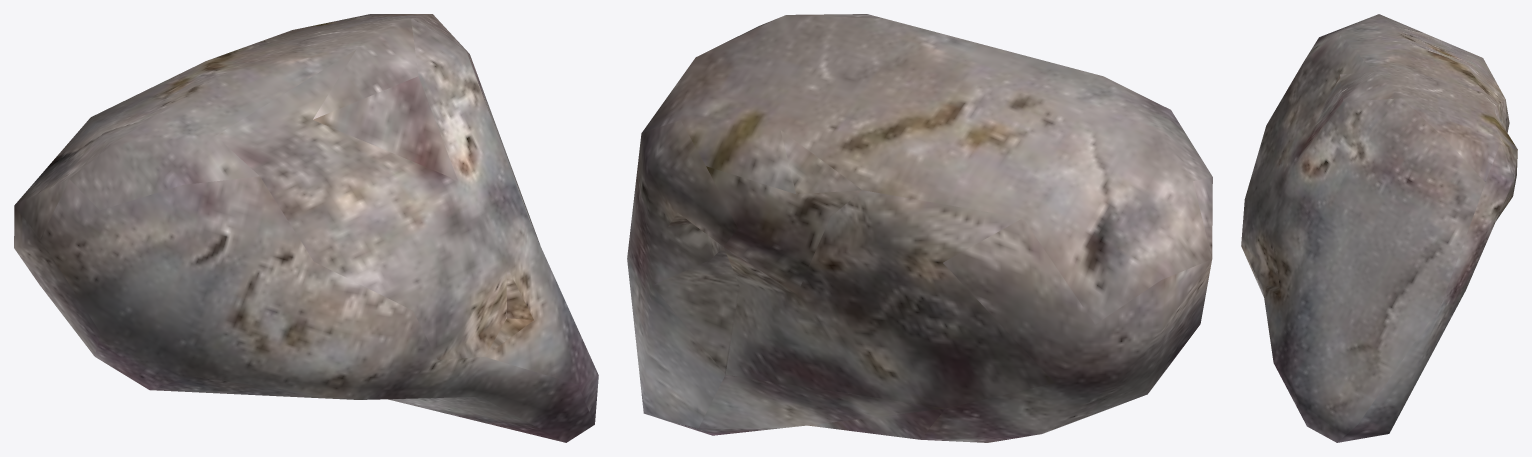
3 renders of one model, left to right at view 1: azimuth 30°, elevation 25°; view 2: azimuth 150°, elevation 25°; view 3: azimuth 270°, elevation 25°, orthographic. The views are drawn at different scales.
Parts seen in each view (by area): view 1: rock013_lod4; view 2: rock013_lod4; view 3: rock013_lod4.
Part boxes in pixels (bbox=[...]): rock013_lod4: bbox=[14, 14, 598, 442]; rock013_lod4: bbox=[627, 14, 1212, 442]; rock013_lod4: bbox=[1241, 14, 1517, 442].
Size of the model in its own units: 1 by 0.7585 by 0.6249.
Materials: 1 (1 with a texture image).
